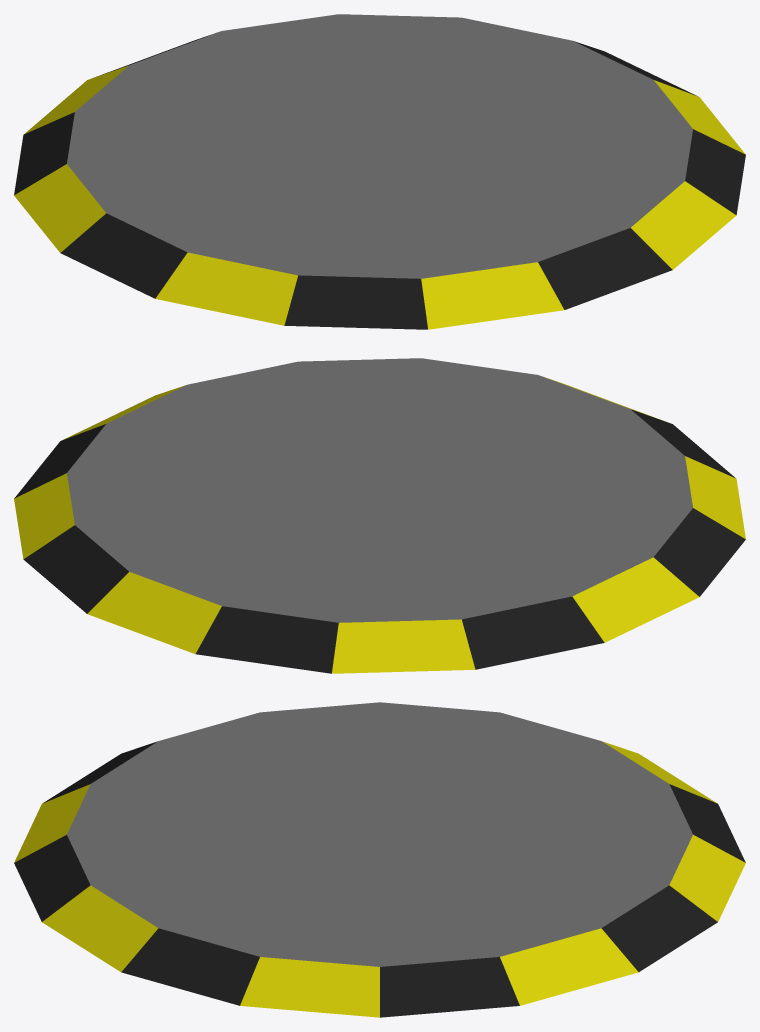
The model's file is platform_1.glb.
The picture shows the model from 3 angles, top to bottom: view 1: azimuth 30°, elevation 25°; view 2: azimuth 150°, elevation 25°; view 3: azimuth 270°, elevation 25°; orthographic projection.
Parts seen in each view (by area): view 1: Circle; view 2: Circle; view 3: Circle.
Boxes of the visible parts, x1,y1,x2,y2 form: Circle: (14, 14, 745, 329); Circle: (14, 358, 745, 673); Circle: (14, 702, 745, 1017).
Bounding box in the file's own units: 6.43 × 0.275 × 6.43.
